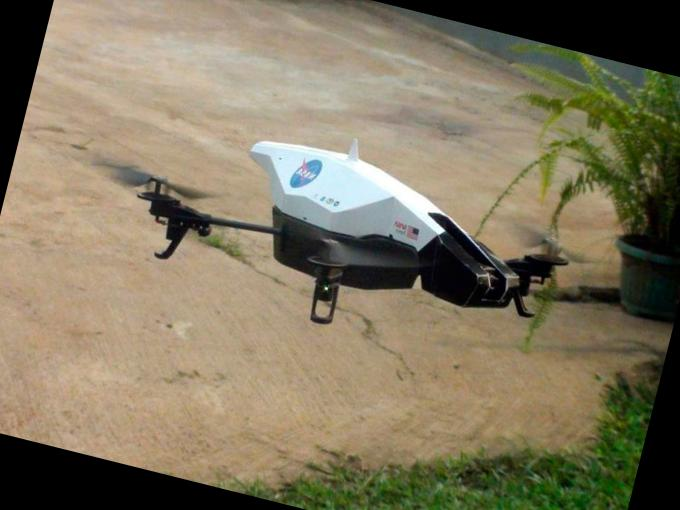drone: (77, 88, 588, 372)
